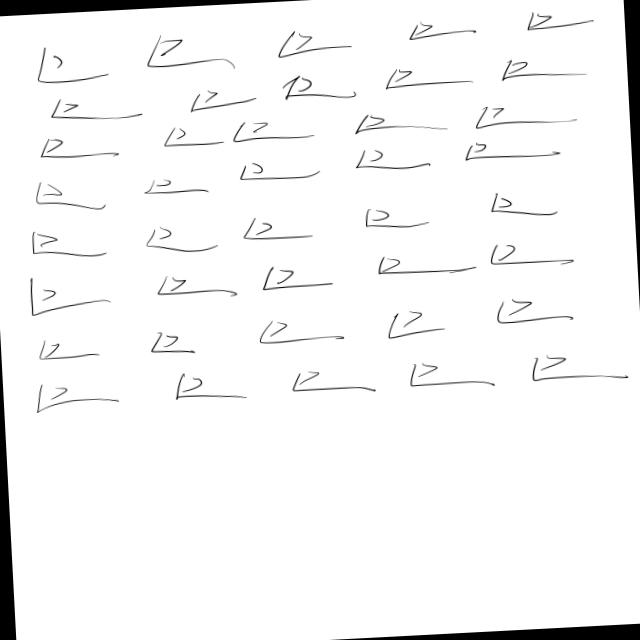Command: (137, 14, 246, 78), (24, 32, 123, 97), (371, 51, 488, 103), (522, 346, 630, 392), (21, 373, 126, 420), (29, 125, 131, 170), (467, 96, 585, 134), (37, 89, 149, 129), (489, 50, 601, 88), (366, 245, 472, 284), (232, 114, 328, 156), (393, 359, 499, 397), (270, 19, 356, 65), (282, 366, 384, 404), (18, 276, 110, 315), (160, 368, 252, 407), (458, 138, 574, 168), (482, 238, 584, 272), (404, 11, 490, 51), (24, 223, 102, 267), (138, 220, 223, 260), (144, 272, 243, 306), (280, 70, 360, 112), (31, 178, 112, 219), (490, 296, 577, 334), (490, 187, 574, 225), (248, 314, 347, 346), (511, 2, 593, 40), (188, 80, 262, 121), (235, 152, 318, 188), (349, 141, 436, 175), (256, 259, 332, 297), (375, 304, 453, 339), (138, 171, 216, 205), (240, 210, 318, 244), (346, 110, 432, 140), (26, 334, 112, 364), (158, 118, 225, 153), (358, 204, 434, 234), (144, 331, 206, 358)
